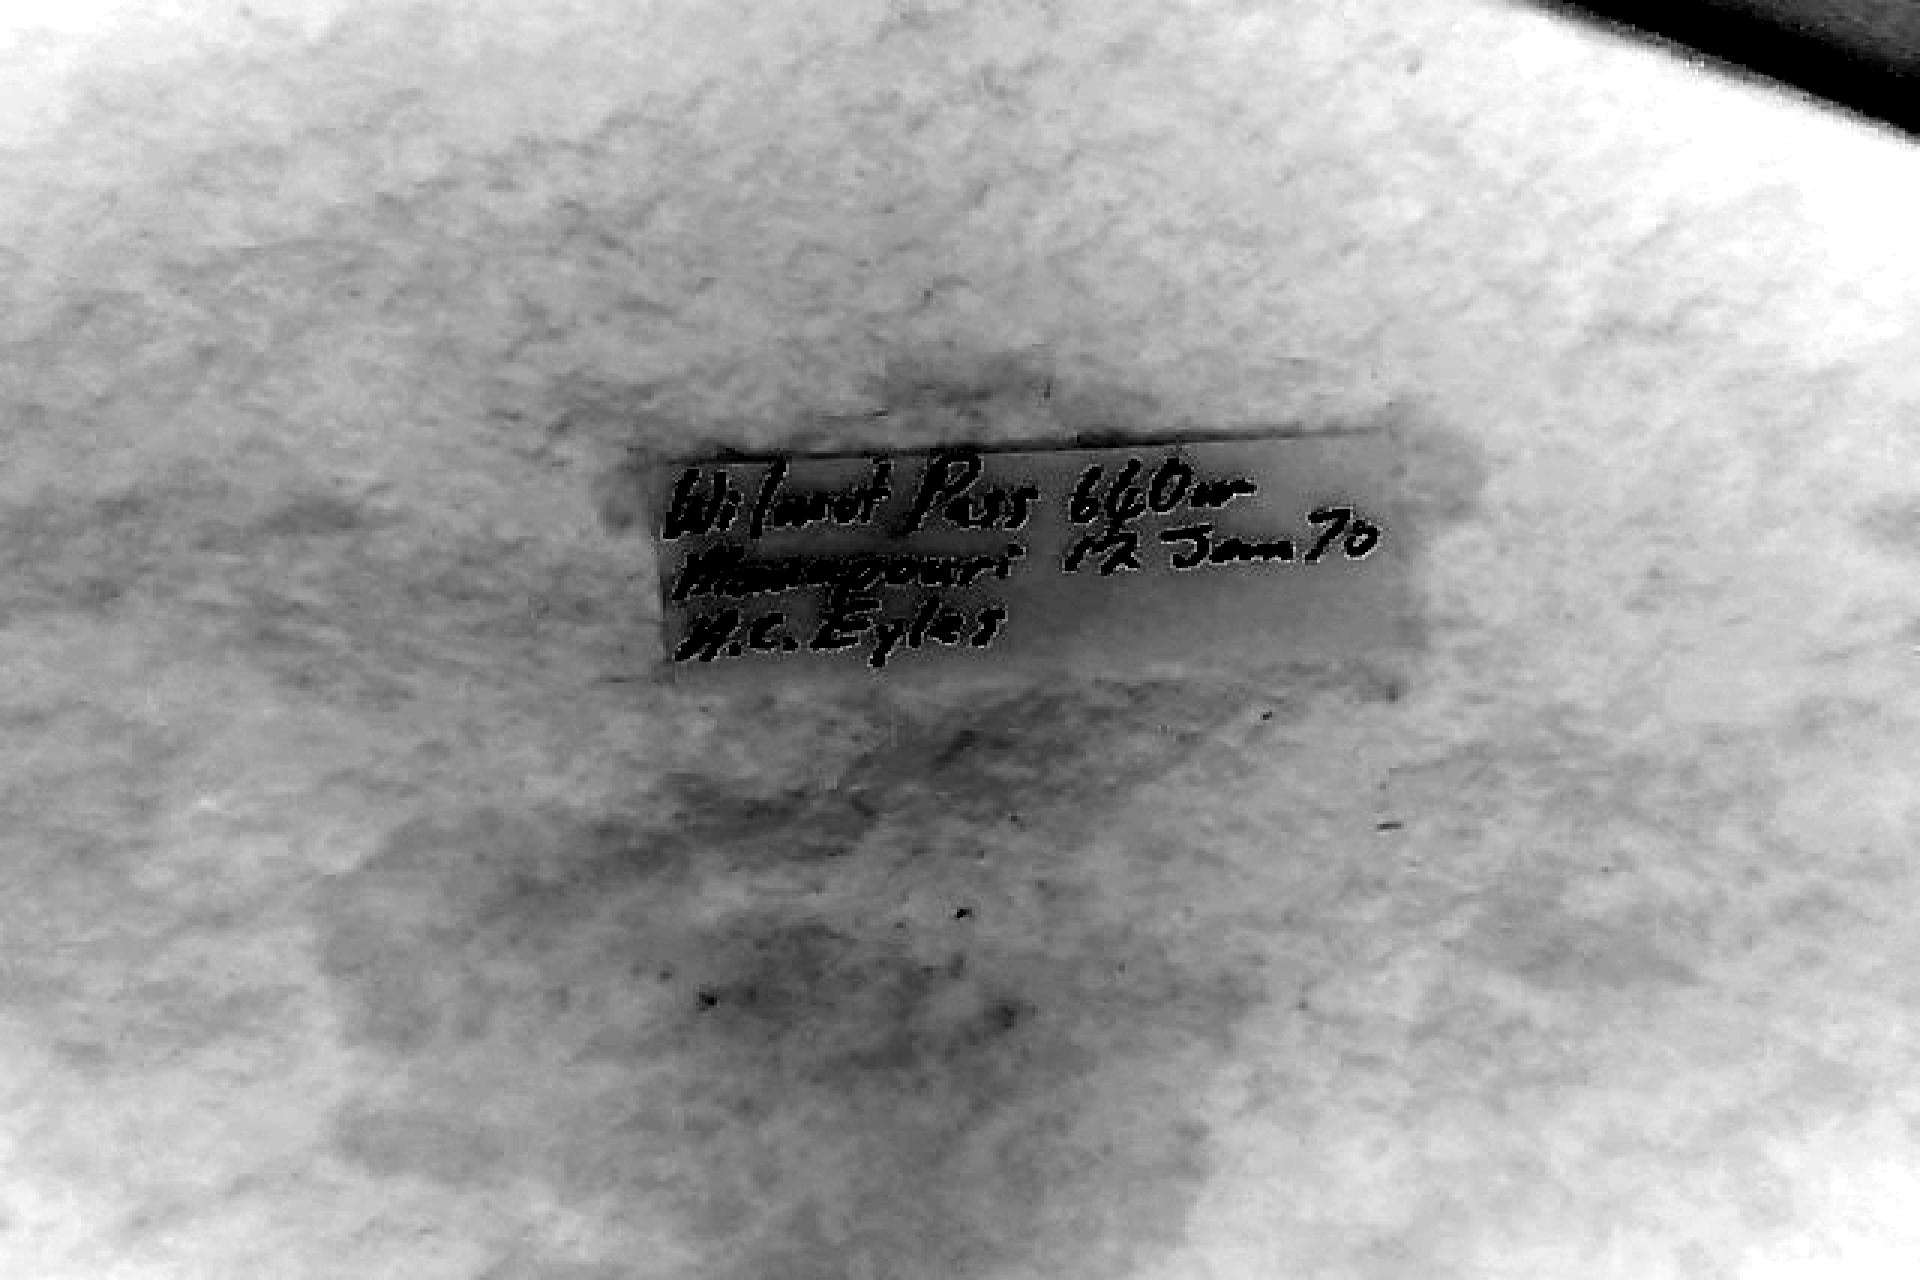hand_label: (664, 433, 1399, 678)
